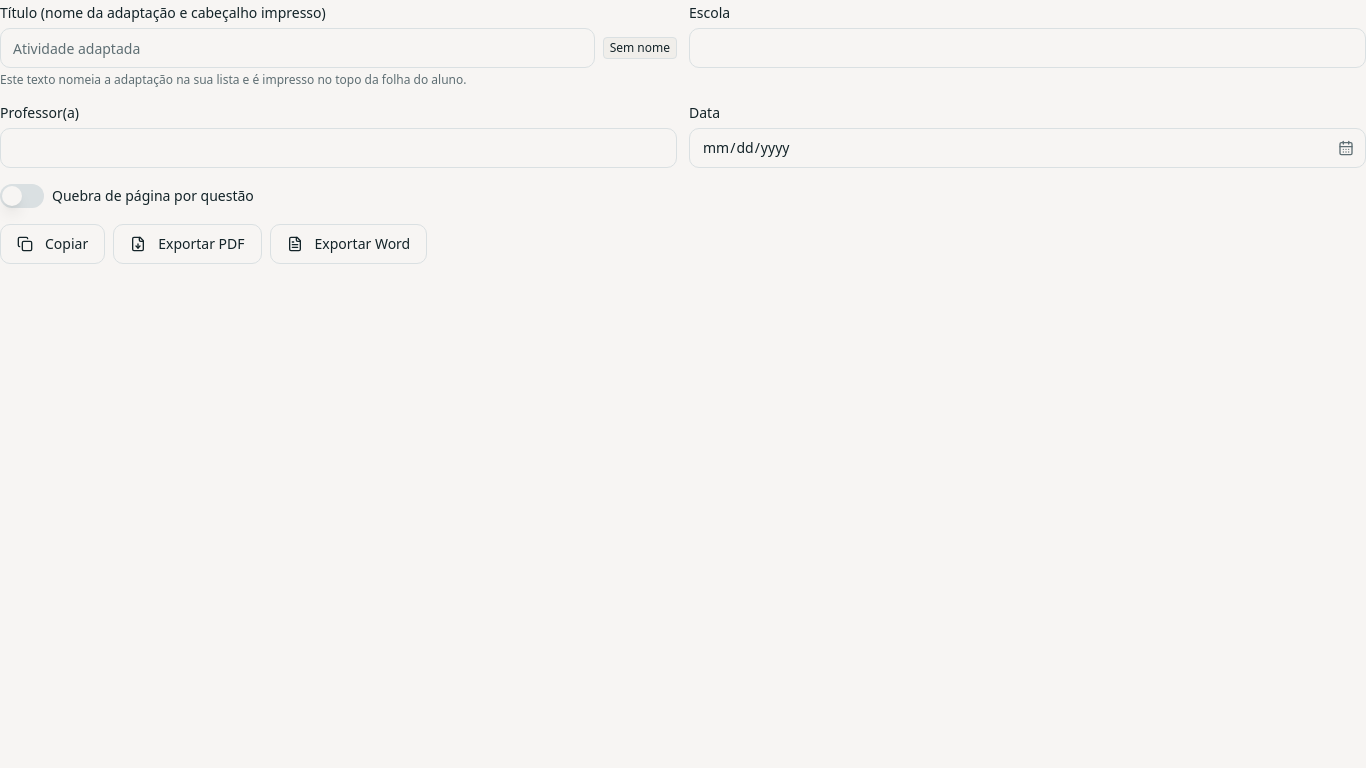
Test: aviso antes do download do Word (B15) › não baixa direto: avisa o que não vai para o Word e espera confirmação
This screenshot has width=1366, height=768.
Click the button "Exportar Word" at (348, 244), box [270, 224, 427, 264]
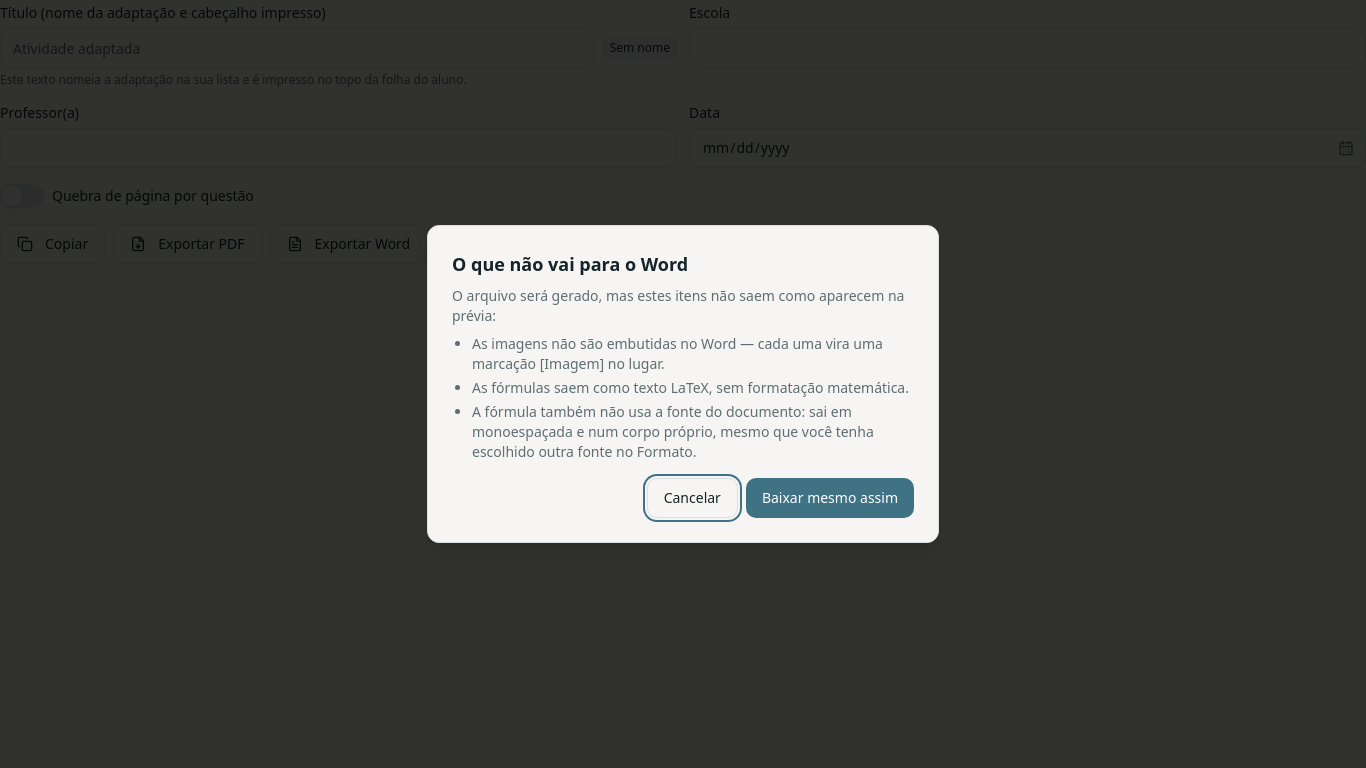
Expected: the list item "não são embutidas no Word" is shown, [472, 334, 883, 373]
Expected: the list item "fórmulas saem como texto LaTeX" is shown, [472, 378, 909, 397]
